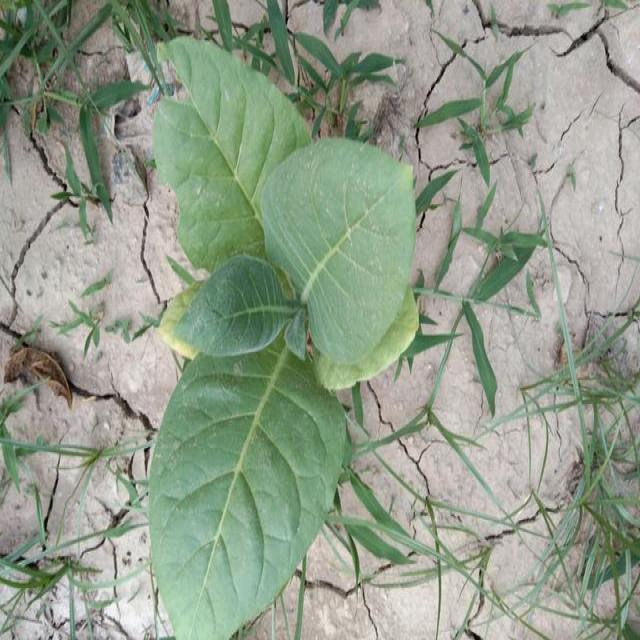crop: (126, 25, 426, 640)
